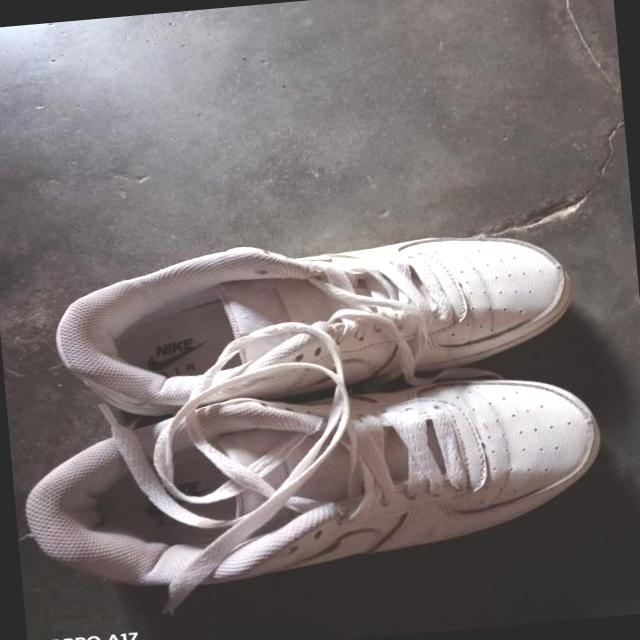nike_fake_airforce: (19, 362, 618, 606), (47, 215, 597, 424)
